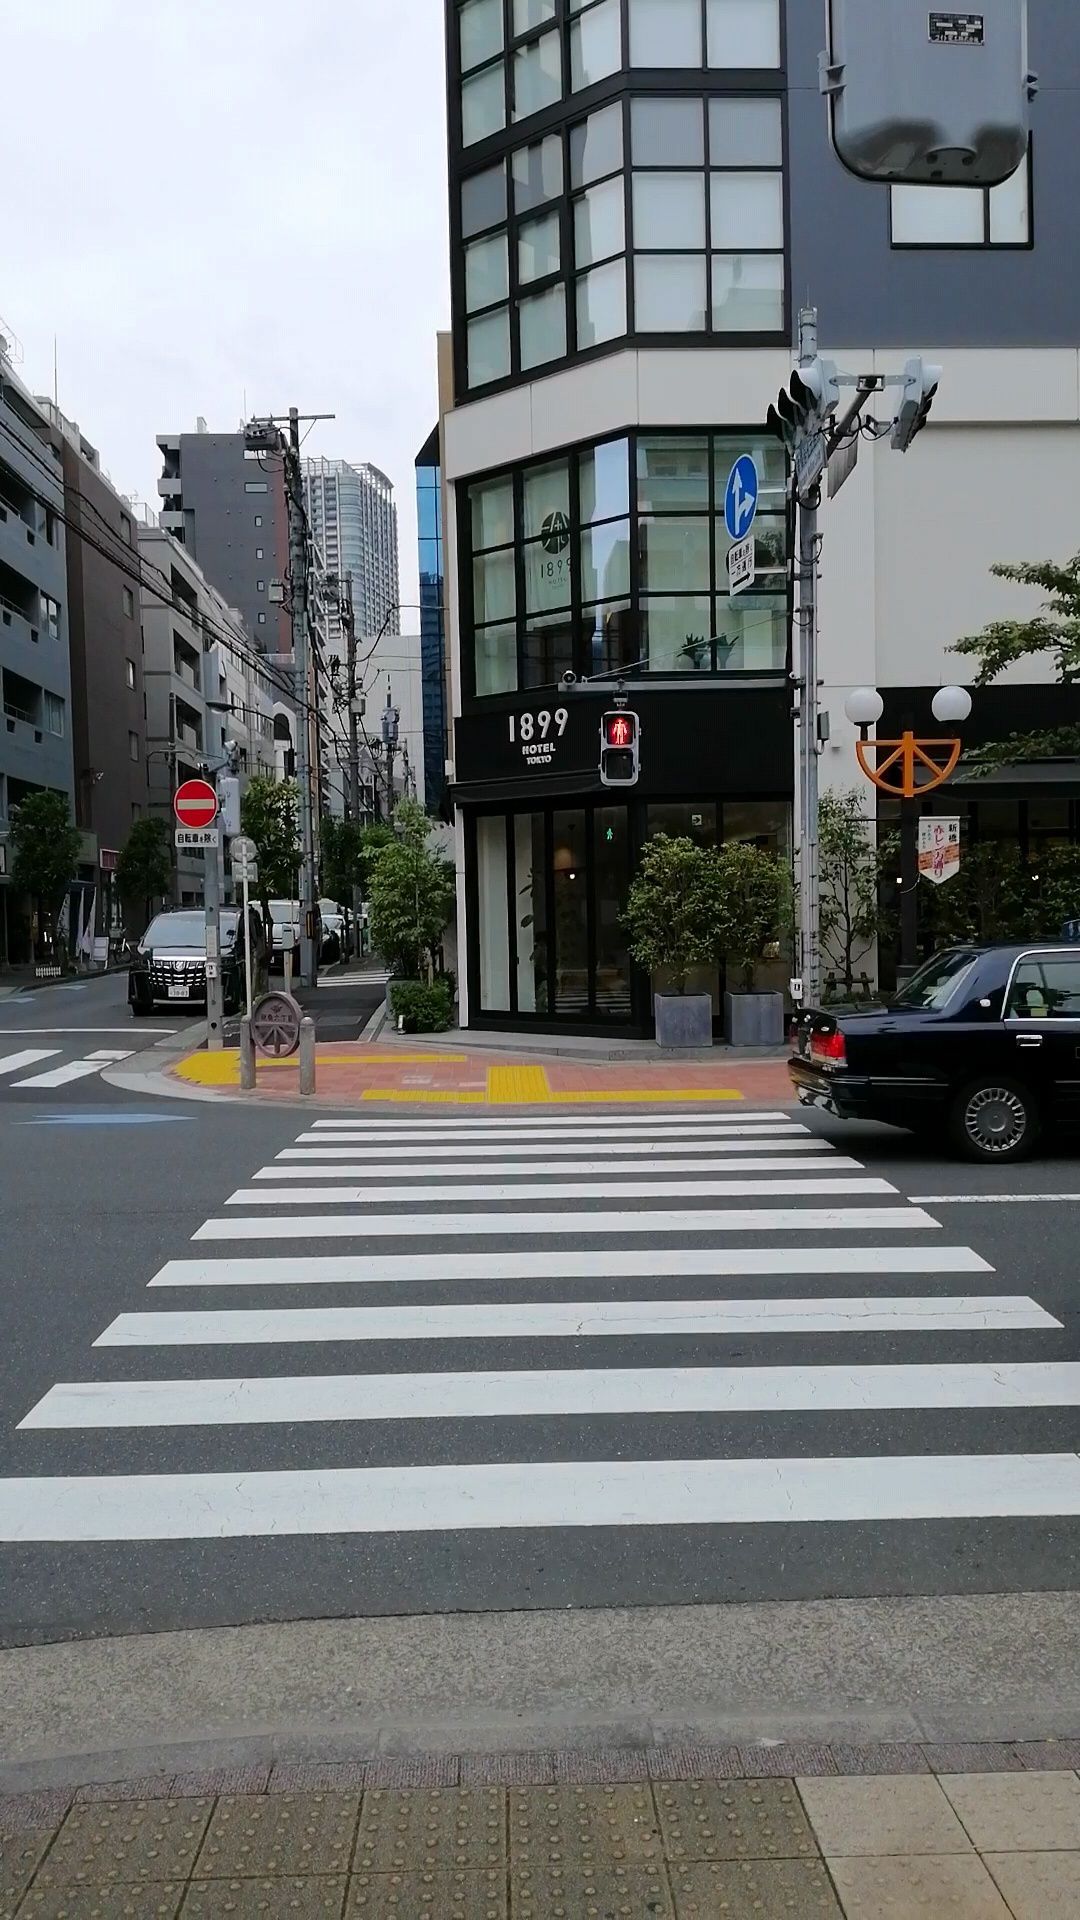red: (597, 711, 638, 786)
